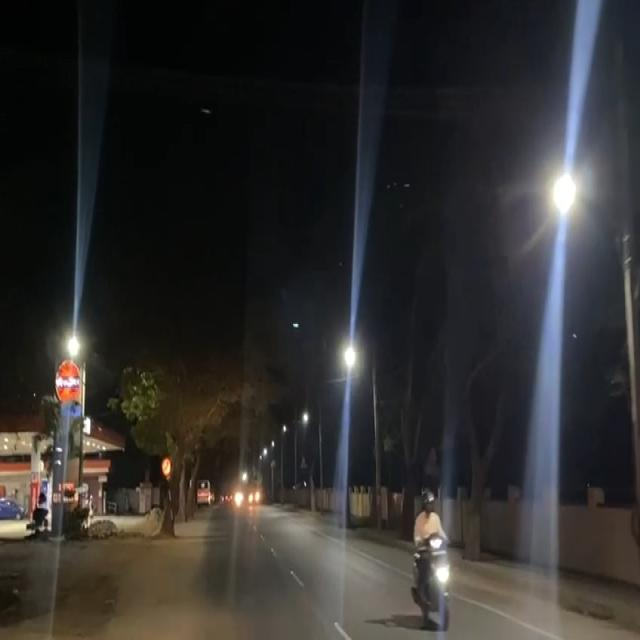bien_cam: (161, 458, 172, 477)
